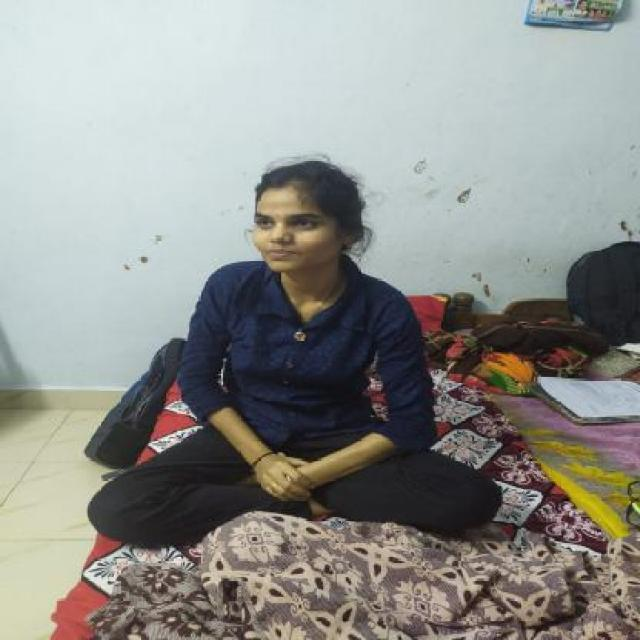cheating: (177, 157, 444, 414)
